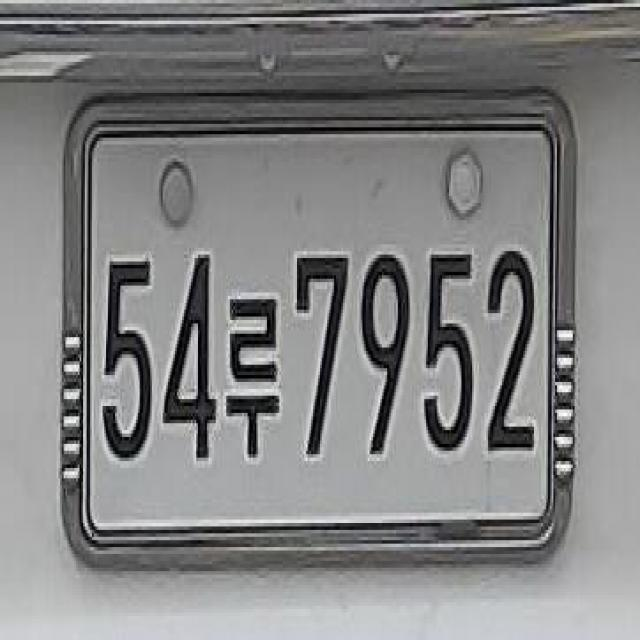2: (482, 224, 539, 458)
4: (159, 246, 223, 464)
5: (97, 243, 158, 470), (420, 225, 478, 460)
7: (286, 227, 352, 466)
9: (356, 226, 416, 462)
license_plate: (59, 88, 585, 570)
lu: (226, 279, 284, 466)
